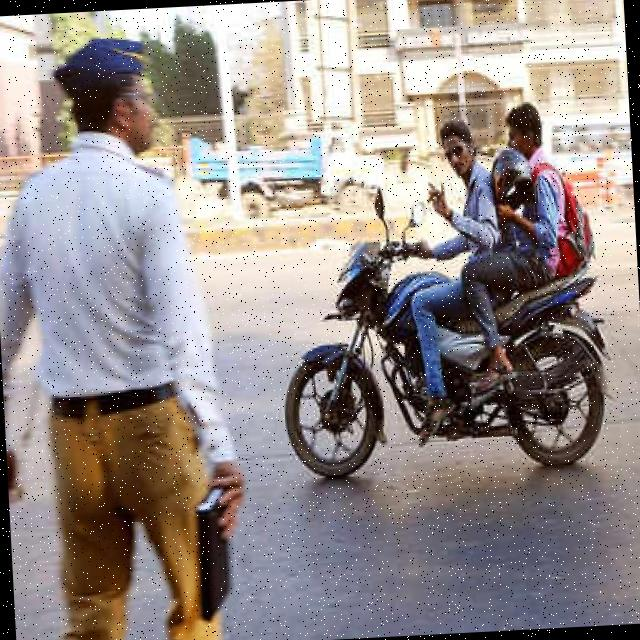No helmet: (425, 118, 496, 193)
